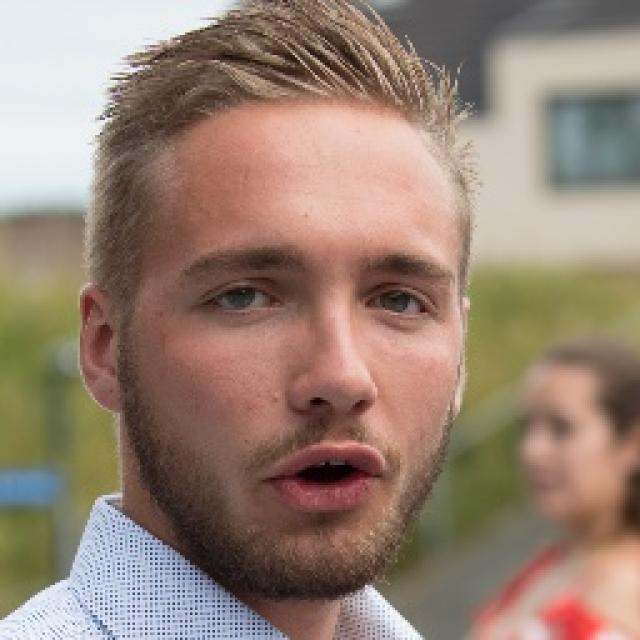earlobe: (94, 371, 129, 414), (450, 389, 470, 424)
eye: (364, 282, 431, 320), (206, 283, 279, 315)
nose: (290, 397, 377, 425)
wholeear: (76, 281, 130, 415)
